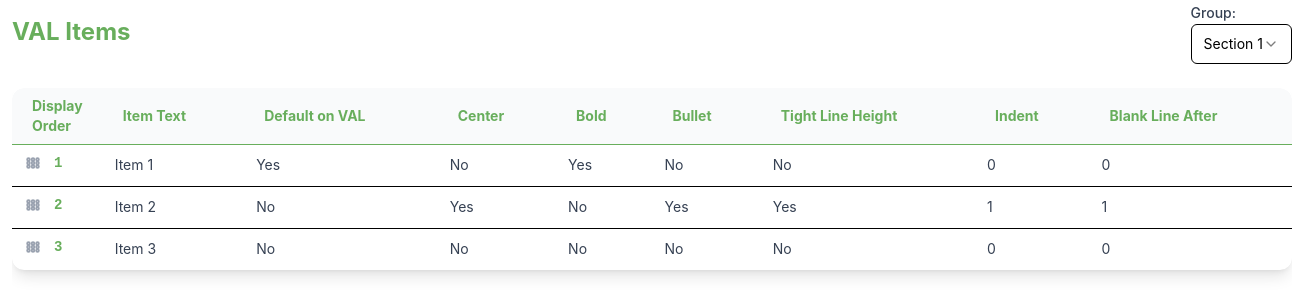
Test case: ManageValItems › renders group select and changes group
The width and height of the screenshot is (1304, 296).
Click the dropdown with test id "group-select-trigger" at {"x": 1241, "y": 44}, box [1191,24,1292,64]
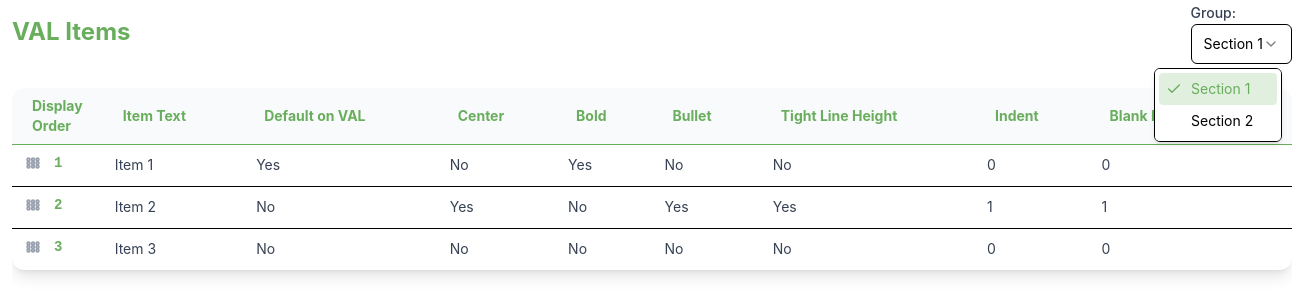
Click the option with test id "section-2" at {"x": 1222, "y": 120}, box [1191,112,1253,129]
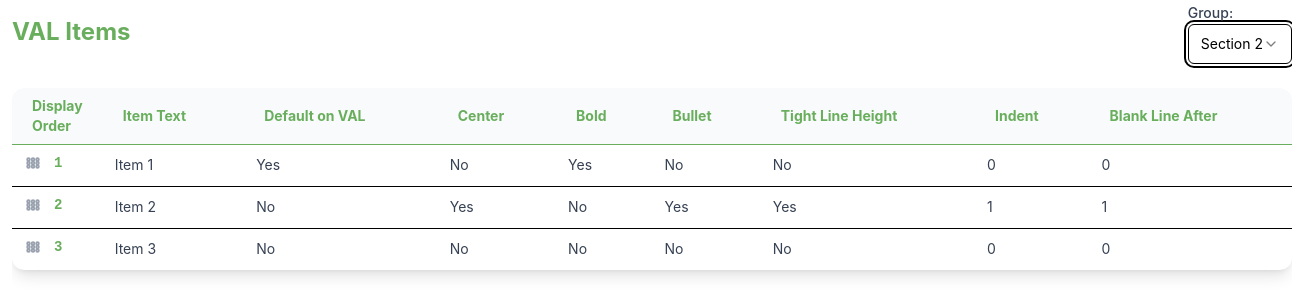
Result: the text "Section 2" is shown at [1201,34,1263,54]
